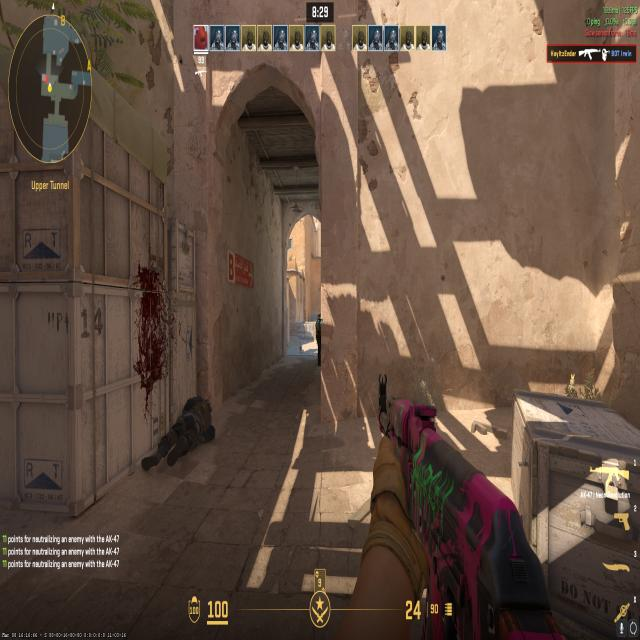t: (312, 306, 323, 365)
